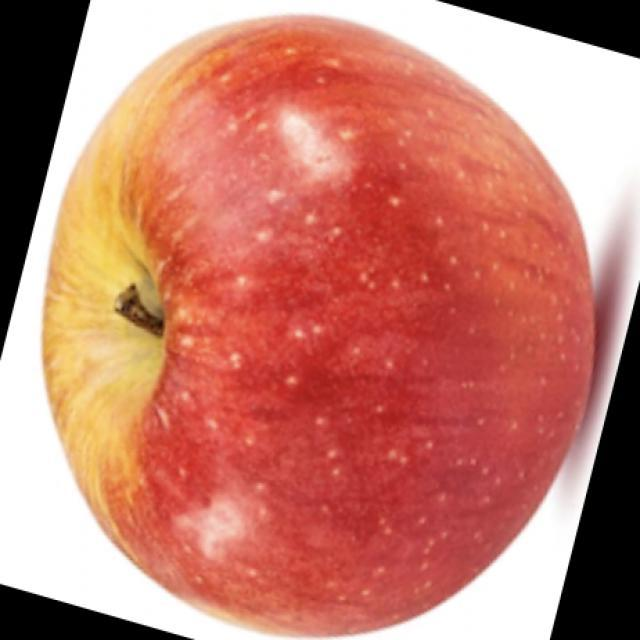Fresh Apple: (38, 40, 602, 640)
